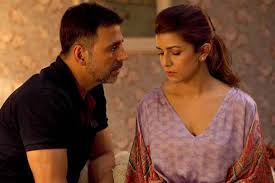Caution: (1, 2, 272, 183)
